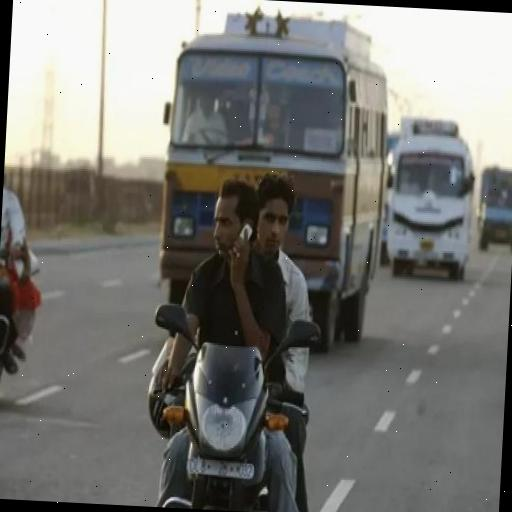no helmet: (141, 156, 304, 512)
